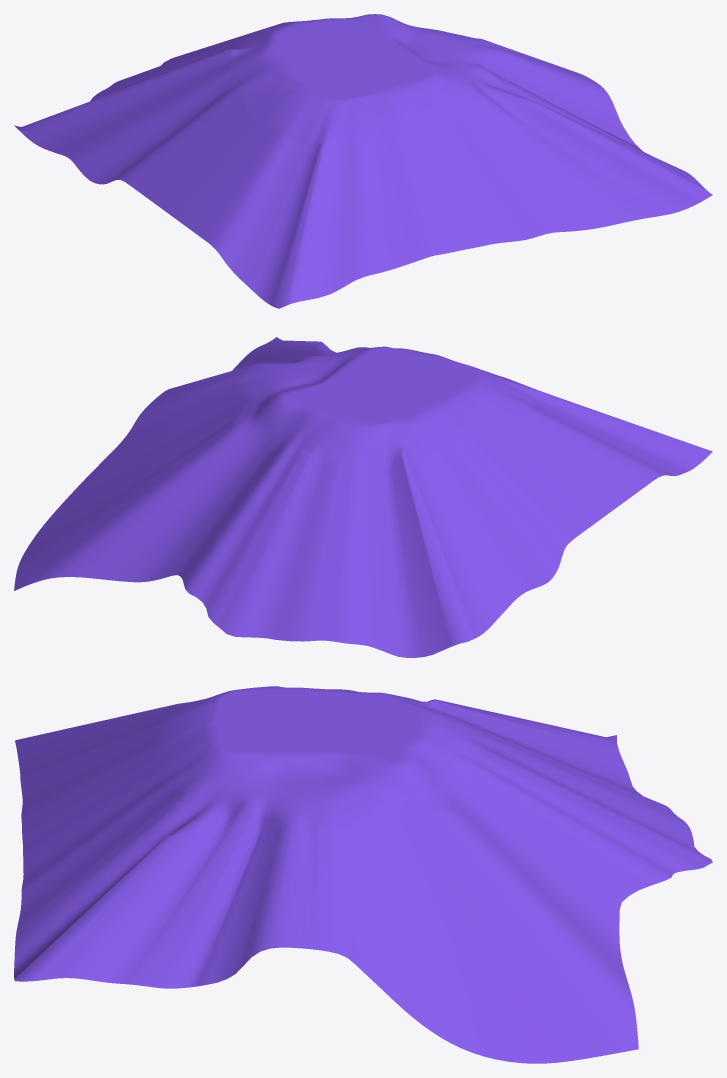
The model's file is P1_H3_Ground.fbx.
3 views of the same model, one above another, from view 1: azimuth 30°, elevation 25°; view 2: azimuth 150°, elevation 25°; view 3: azimuth 270°, elevation 25° (orthographic). The views are drawn at different scales.
Parts seen in each view (by area): view 1: Ground.009, Ground.012, Ground.011; view 2: Ground.009, Ground.012, Ground.011; view 3: Ground.009, Ground.012, Ground.011.
Part boxes in pixels (left/top/right/bottom): Ground.009: left=14, top=24, right=712, bottom=308; Ground.012: left=201, top=14, right=508, bottom=146; Ground.011: left=264, top=14, right=436, bottom=101; Ground.009: left=14, top=337, right=712, bottom=657; Ground.012: left=231, top=346, right=532, bottom=476; Ground.011: left=278, top=346, right=481, bottom=428; Ground.009: left=14, top=699, right=712, bottom=1063; Ground.012: left=153, top=686, right=487, bottom=820; Ground.011: left=215, top=687, right=433, bottom=766.
Bounding box in the file's own units: 41048 × 13157 × 43873.
